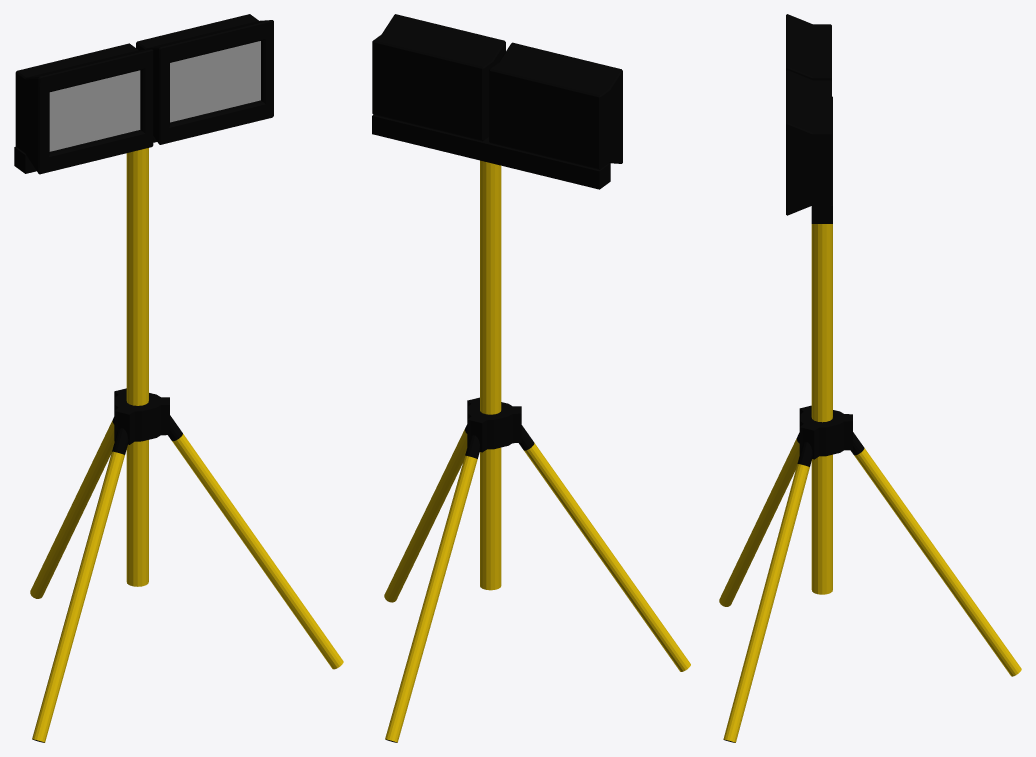
Rendered from Con_Light.fbx.
3 views of the same model, side by side, from view 1: azimuth 30°, elevation 25°; view 2: azimuth 150°, elevation 25°; view 3: azimuth 270°, elevation 25° (orthographic). The views are drawn at different scales.
Visible parts, largest first — view 1: Con_Light:Con_Light; view 2: Con_Light:Con_Light; view 3: Con_Light:Con_Light.
Part boxes in pixels (<box>): Con_Light:Con_Light: <box>14,14,343,742</box>; Con_Light:Con_Light: <box>372,14,690,742</box>; Con_Light:Con_Light: <box>719,14,1021,742</box>.
Size of the model in its own units: 76.89 by 150 by 67.7.
